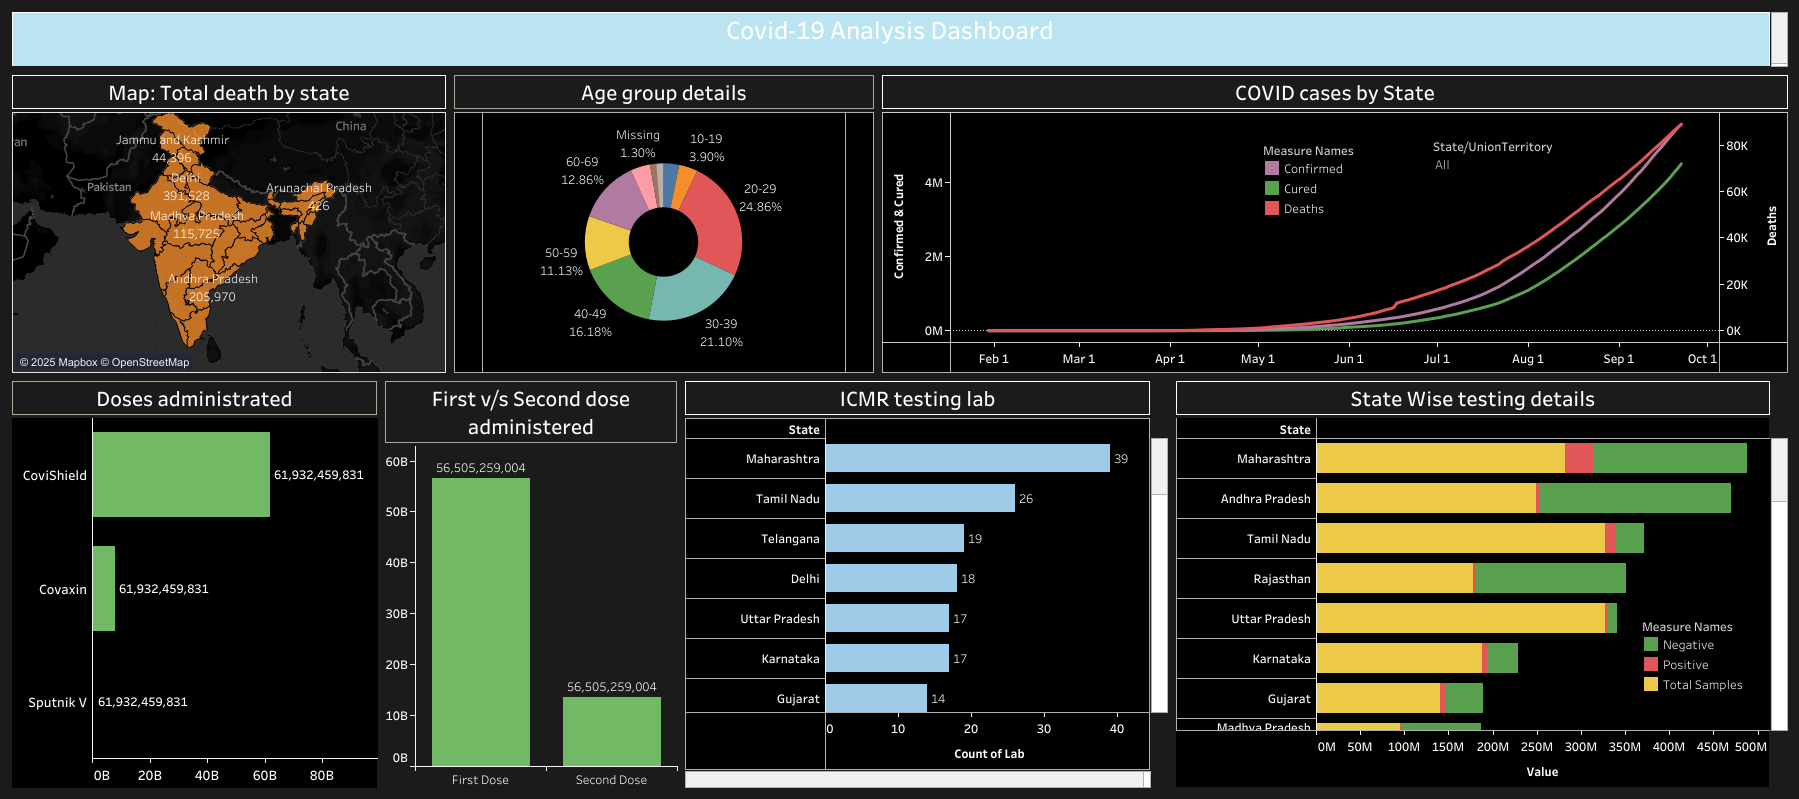

What the dashboard file says about the page in this screenshot:
{"tool":"tableau","page":{"name":"Dashboard 1","canvas":[1800,800],"ordinal":0},"visuals":[{"type":"worksheet","title":"title","mark":"Automatic","box":[8,8,1784,63.1]},{"type":"worksheet","title":"Map: Total death by state","mark":"Automatic","box":[8,71.1,442,305.9]},{"type":"worksheet","title":"Age group details","mark":"Pie","rows":["Calculation_352969635285405697","Calculation_352969635285405697"],"box":[450,71.1,428,305.9]},{"type":"worksheet","title":"COVID cases by State","mark":"Automatic","rows":["Deaths"],"cols":["Date"],"box":[878,71.1,914,305.9]},{"type":"filter","title":"COVID cases by State","param":"[federated.0e0y9kd1suk8no1e488uf1n6h8mq].[none:State/UnionTerritory:nk]","box":[1433,136,168,69.3]},{"type":"legend","title":"COVID cases by State","param":"[federated.0e0y9kd1suk8no1e488uf1n6h8mq].[:Measure Names]","box":[1262,138.7,140,104]},{"type":"worksheet","title":"first vs second dose","mark":"Automatic","box":[8,377,373,415]},{"type":"worksheet","title":"Dose administered","mark":"Automatic","box":[381,377,300,415]},{"type":"worksheet","title":"ICMR testing lab","mark":"Automatic","rows":["state"],"cols":["lab"],"box":[681,377,491,415]},{"type":"worksheet","title":"State Wise testing details","mark":"Automatic","rows":["State"],"box":[1172,377,620,415]},{"type":"legend","title":"State Wise testing details","param":"[federated.0gh1htk0gqgfk81cnfso21sf5nkj].[:Measure Names]","box":[1641,615,122,105]}]}

Visuals, with their boxes in screenshot pixels (x1, y1, x2, y2), scaled from the page's 1800x800 canvas onto the 1799x799 screenshot:
"title" worksheet: Rect(8, 8, 1791, 71)
"Map: Total death by state" worksheet: Rect(8, 71, 450, 377)
"Age group details" worksheet (Pie marks): Rect(450, 71, 878, 377)
"COVID cases by State" worksheet: Rect(878, 71, 1791, 377)
"COVID cases by State" filter: Rect(1432, 136, 1600, 205)
"COVID cases by State" legend: Rect(1261, 139, 1401, 242)
"first vs second dose" worksheet: Rect(8, 377, 381, 791)
"Dose administered" worksheet: Rect(381, 377, 681, 791)
"ICMR testing lab" worksheet: Rect(681, 377, 1171, 791)
"State Wise testing details" worksheet: Rect(1171, 377, 1791, 791)
"State Wise testing details" legend: Rect(1640, 614, 1762, 719)
